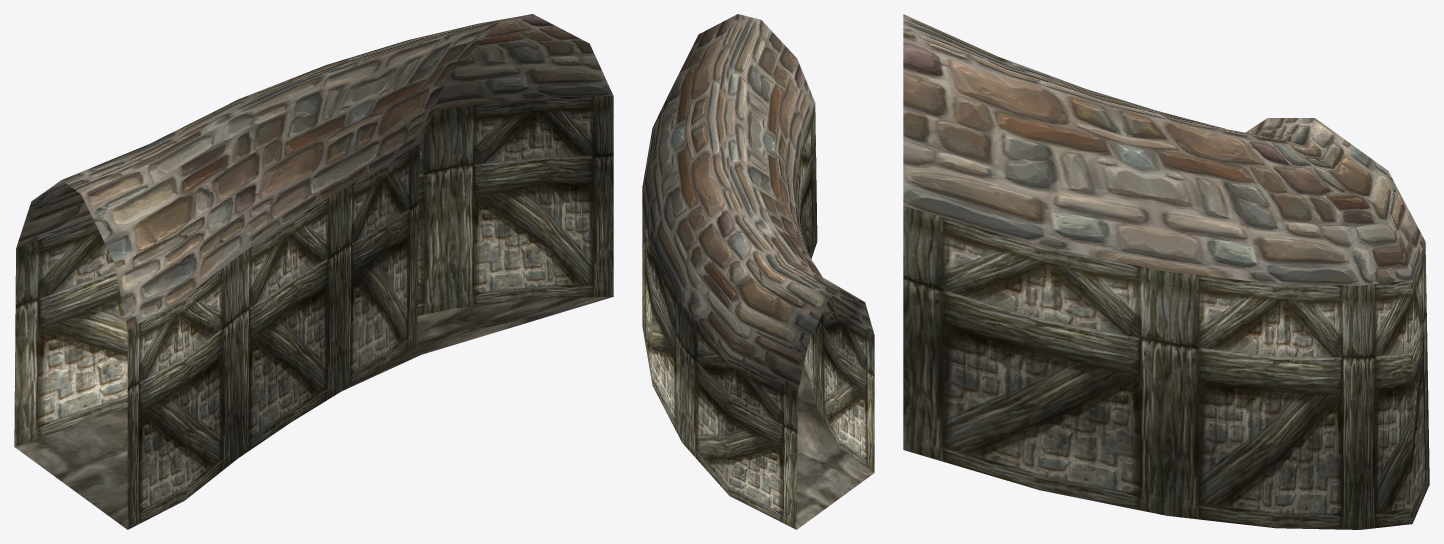
The model's file is stormwind_157.fbx.
The picture shows the model from 3 angles, left to right: view 1: azimuth 30°, elevation 25°; view 2: azimuth 150°, elevation 25°; view 3: azimuth 270°, elevation 25°; orthographic projection. The views are drawn at different scales.
Visible parts, largest first — view 1: stormwind_157_58, stormwind_157_38, stormwind_157_57; view 2: stormwind_157_38, stormwind_157_58, stormwind_157_57; view 3: stormwind_157_58, stormwind_157_38.
Boxes of the visible parts, box(x1,y1,x2,y2) form: stormwind_157_58: box(14, 96, 613, 529); stormwind_157_38: box(16, 14, 613, 329); stormwind_157_57: box(15, 297, 612, 529); stormwind_157_38: box(642, 14, 874, 391); stormwind_157_58: box(642, 103, 874, 529); stormwind_157_57: box(796, 368, 874, 529); stormwind_157_58: box(903, 206, 1429, 529); stormwind_157_38: box(903, 14, 1425, 285).
Bounding box in the file's own units: 7.84 × 10.14 × 7.68.
